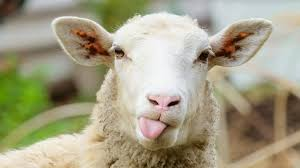koyun: (29, 12, 283, 157)
